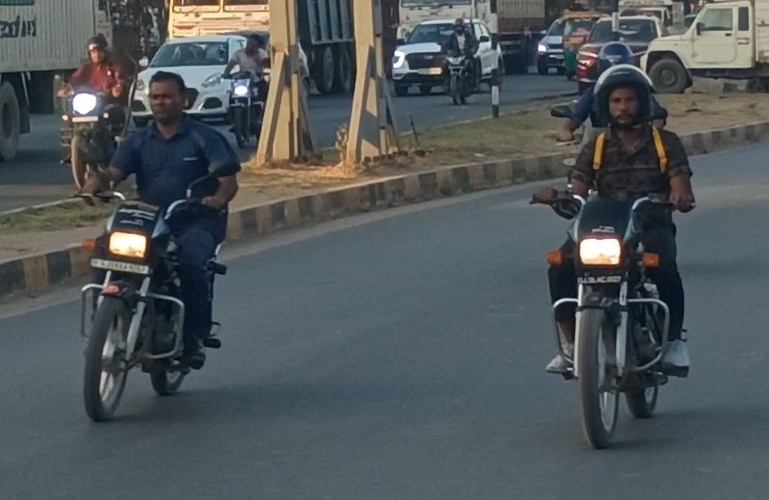BikeWithRider: (525, 64, 699, 450), (70, 68, 241, 429), (55, 32, 133, 190), (220, 30, 287, 151), (437, 9, 482, 107)
Helmet: (597, 67, 663, 127), (82, 33, 112, 65), (448, 14, 469, 36)
NoHelmet: (141, 69, 198, 130), (240, 32, 264, 58)
